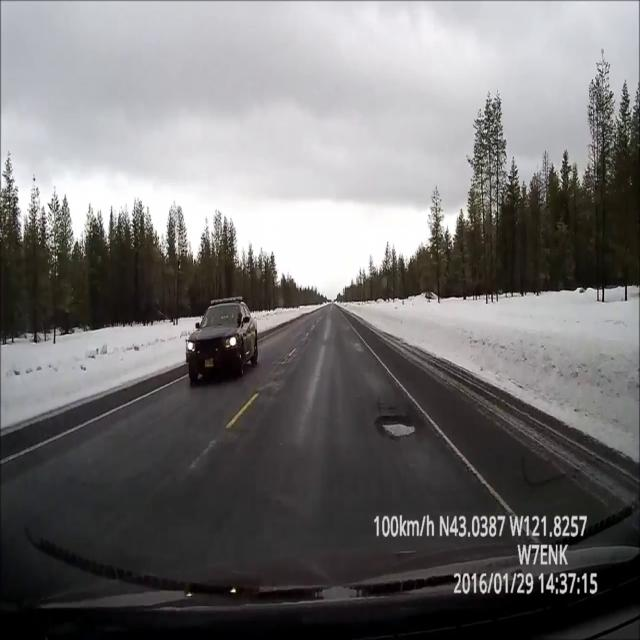Pothole: (375, 416, 419, 439)
